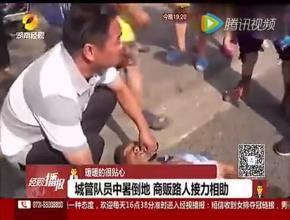fall: (108, 128, 278, 205)
